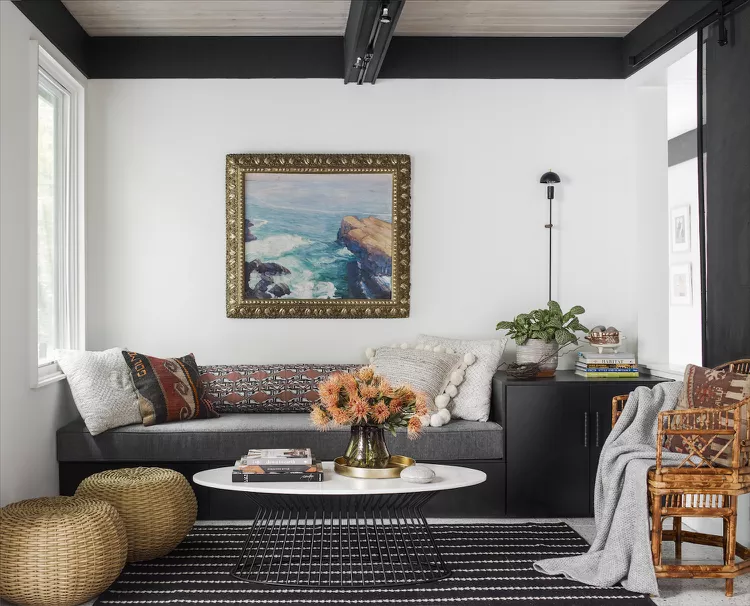chair: (603, 351, 750, 595)
flower vase: (309, 359, 430, 478)
small plant: (491, 298, 587, 370)
sofa: (50, 346, 509, 521)
table: (189, 460, 490, 592)
wall art: (220, 147, 414, 322)
